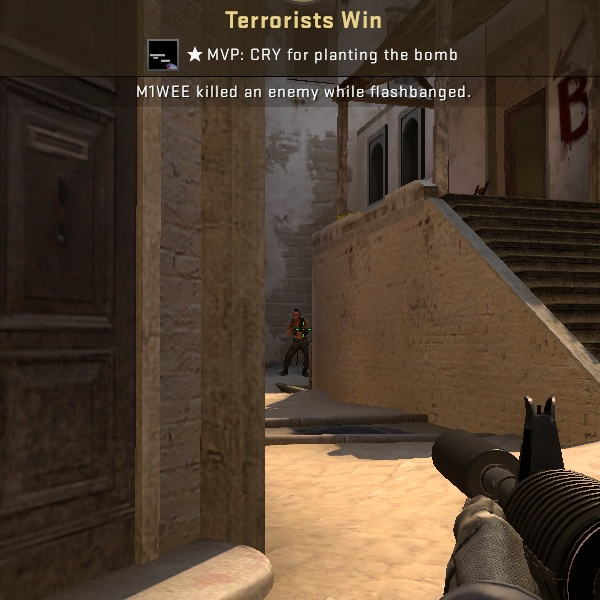t_body: (276, 306, 314, 379)
t_head: (289, 307, 305, 323)
